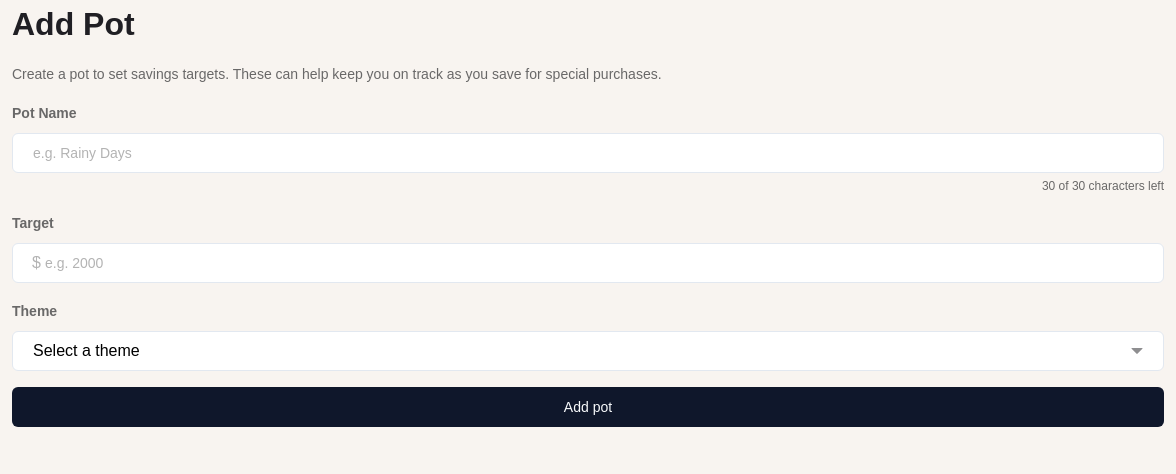
Test: GeneralForm (pot) › shows validation messages and does not submit when empty
Click the button "Add pot": (588, 407) [12, 387, 1164, 427]
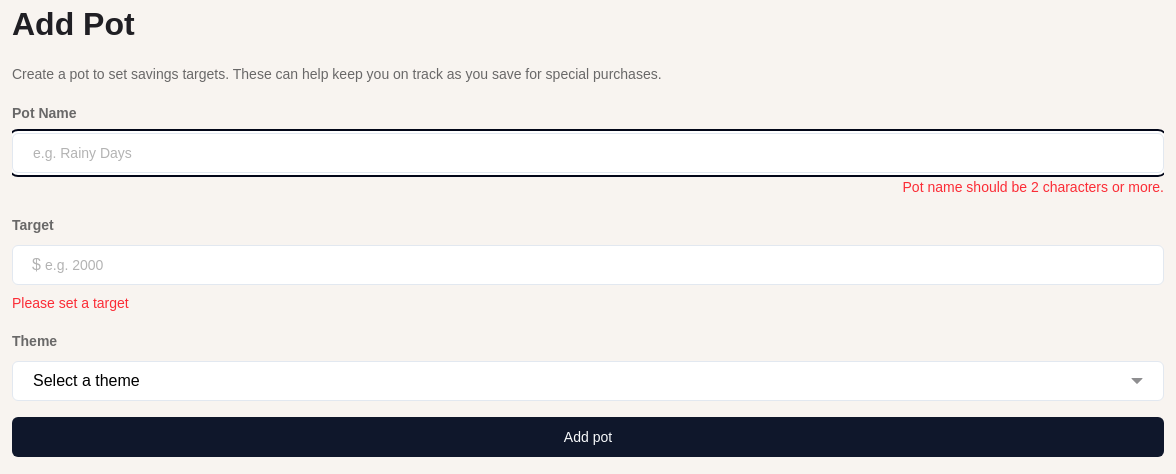
Expected: the text "Pot name should be 2 characters or more." is shown, [902, 179, 1164, 195]
Expected: the text "Please set a target" is shown, [12, 295, 129, 311]
